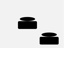human: (17, 14, 38, 30), (38, 31, 60, 46)
